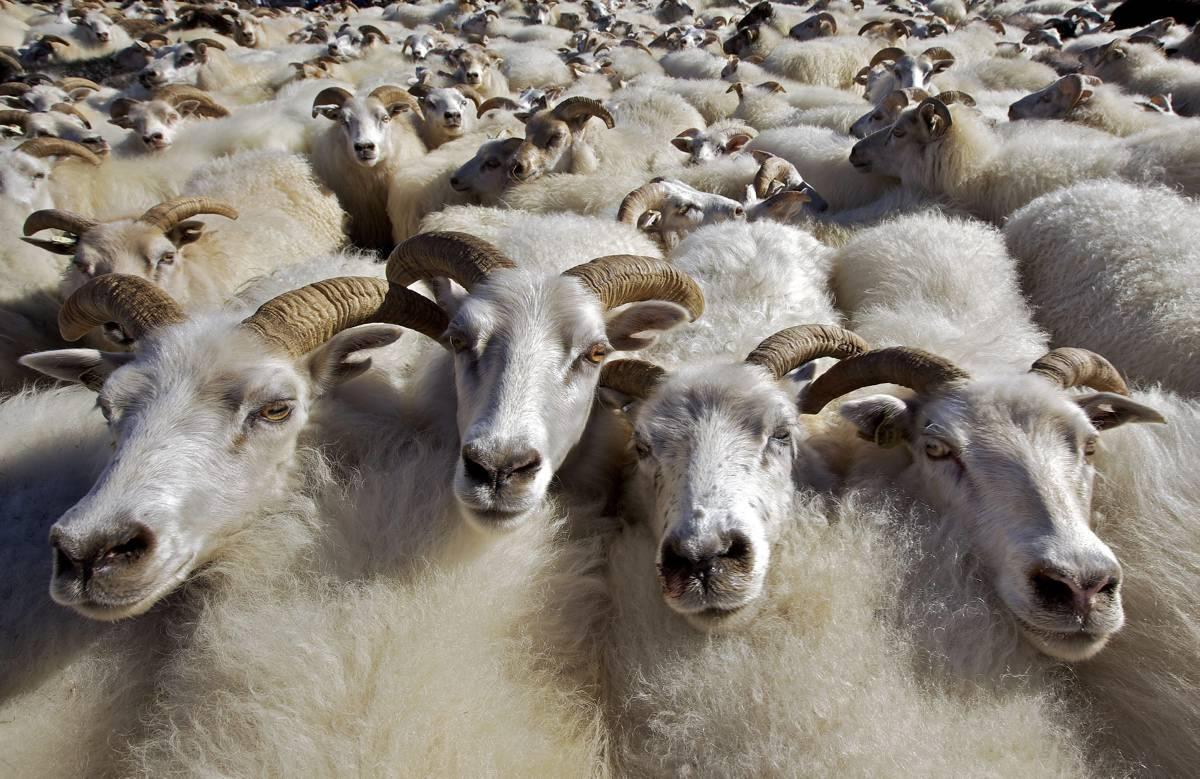sheep: (18, 261, 435, 779), (376, 229, 690, 778), (827, 333, 1193, 773), (588, 361, 902, 779), (848, 88, 1132, 238), (26, 207, 311, 351), (507, 101, 730, 229), (297, 80, 422, 245)
